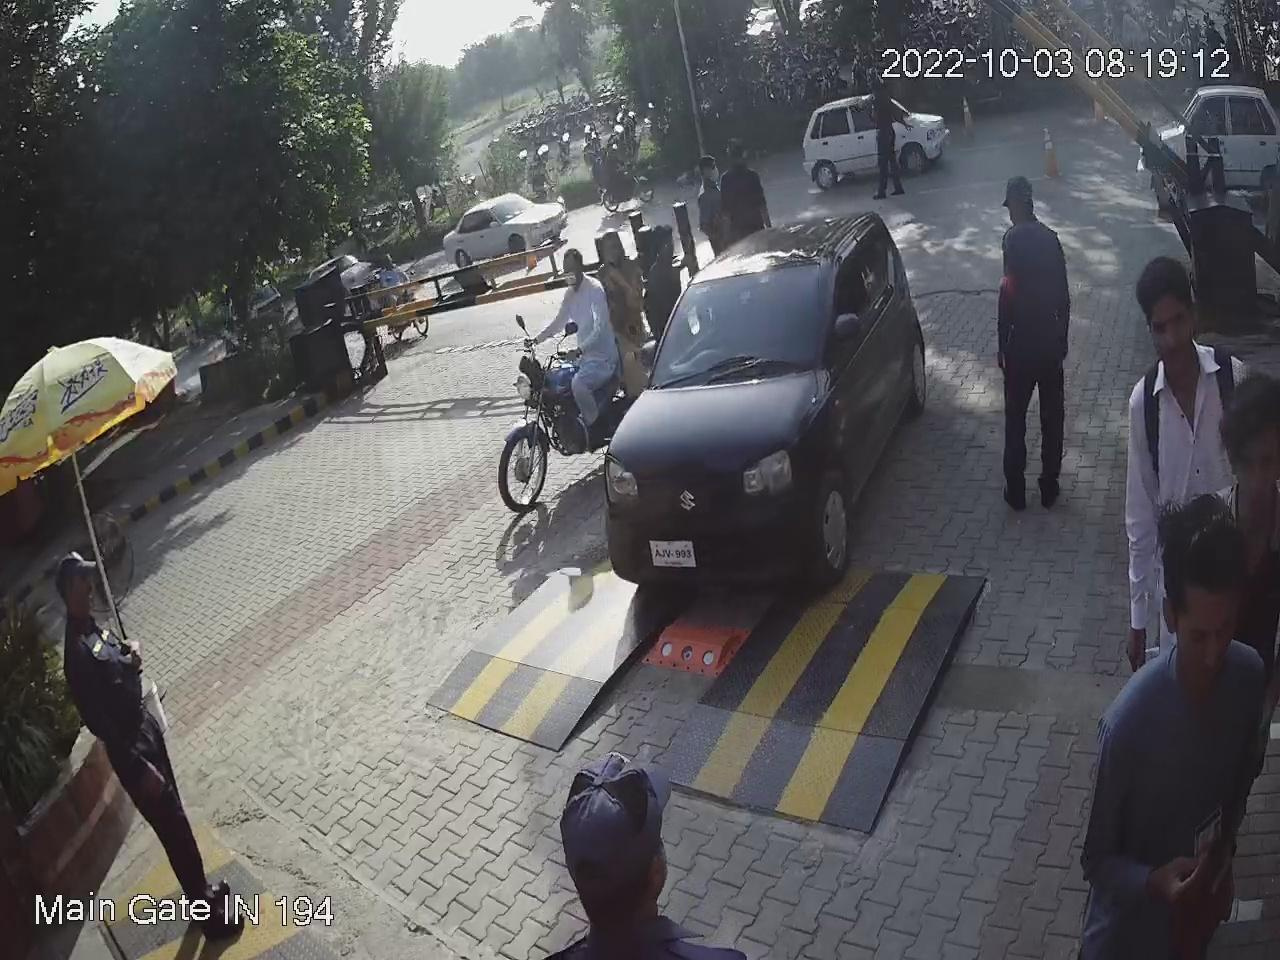windshield: (643, 265, 833, 395)
